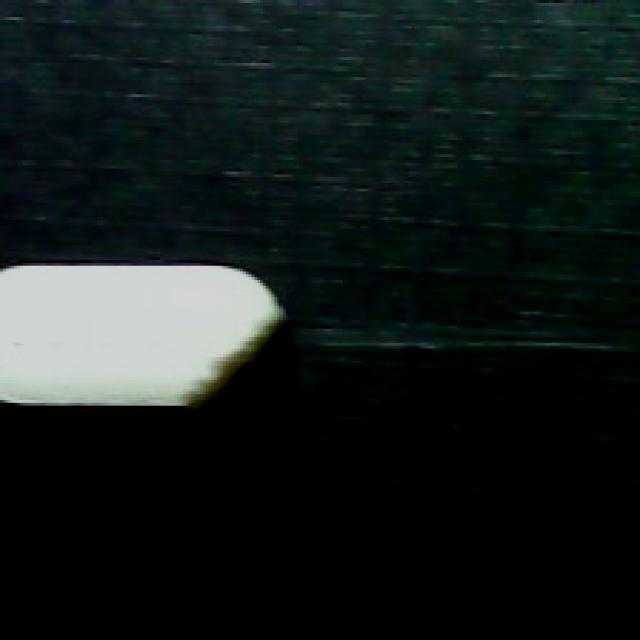defected: (0, 260, 291, 426)
